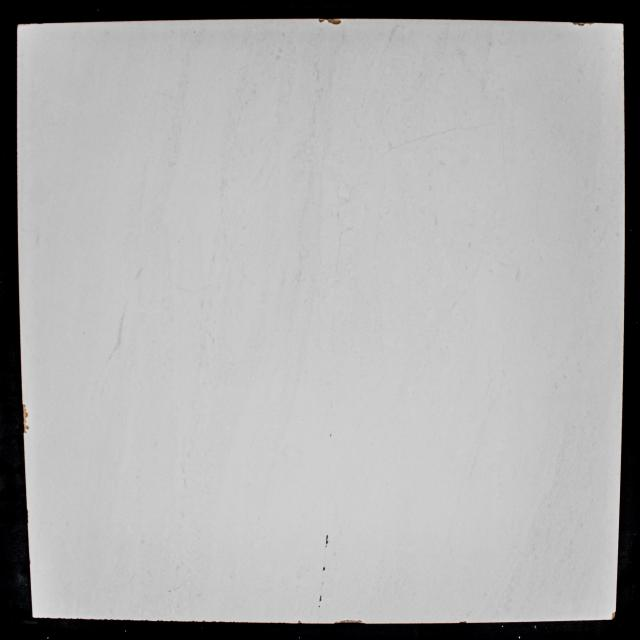edge-chipping: (333, 619, 362, 624), (327, 19, 342, 25), (570, 22, 585, 26), (317, 18, 326, 23), (22, 404, 27, 412), (23, 412, 29, 418), (585, 22, 595, 25), (27, 509, 29, 524), (24, 424, 29, 429), (23, 419, 27, 424), (23, 430, 28, 434), (458, 621, 467, 623), (297, 620, 302, 623)
hole: (322, 567, 326, 571), (318, 605, 321, 608)
line: (379, 119, 500, 160)
